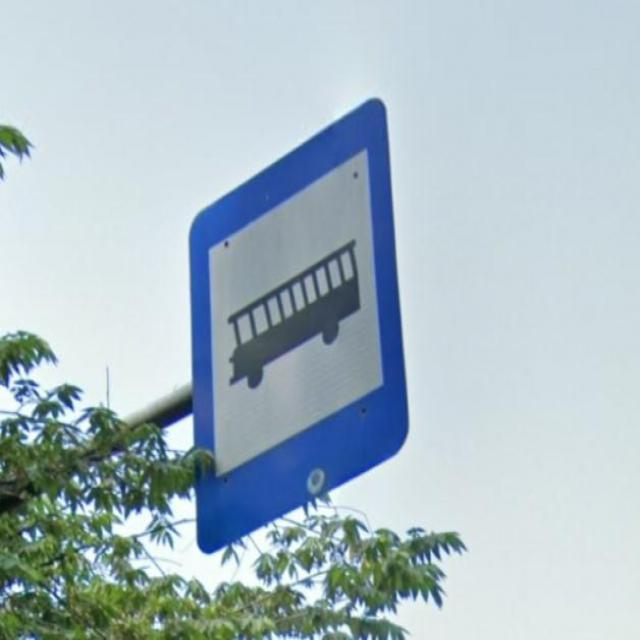traffic sign: (191, 100, 411, 556)
